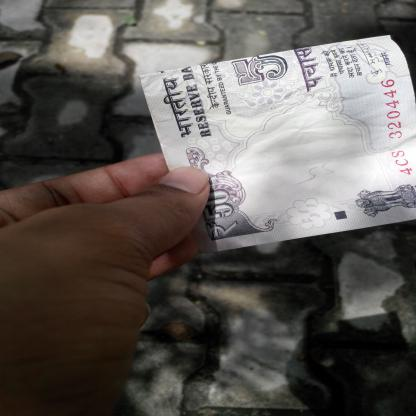Old50Front: (140, 35, 416, 255)
